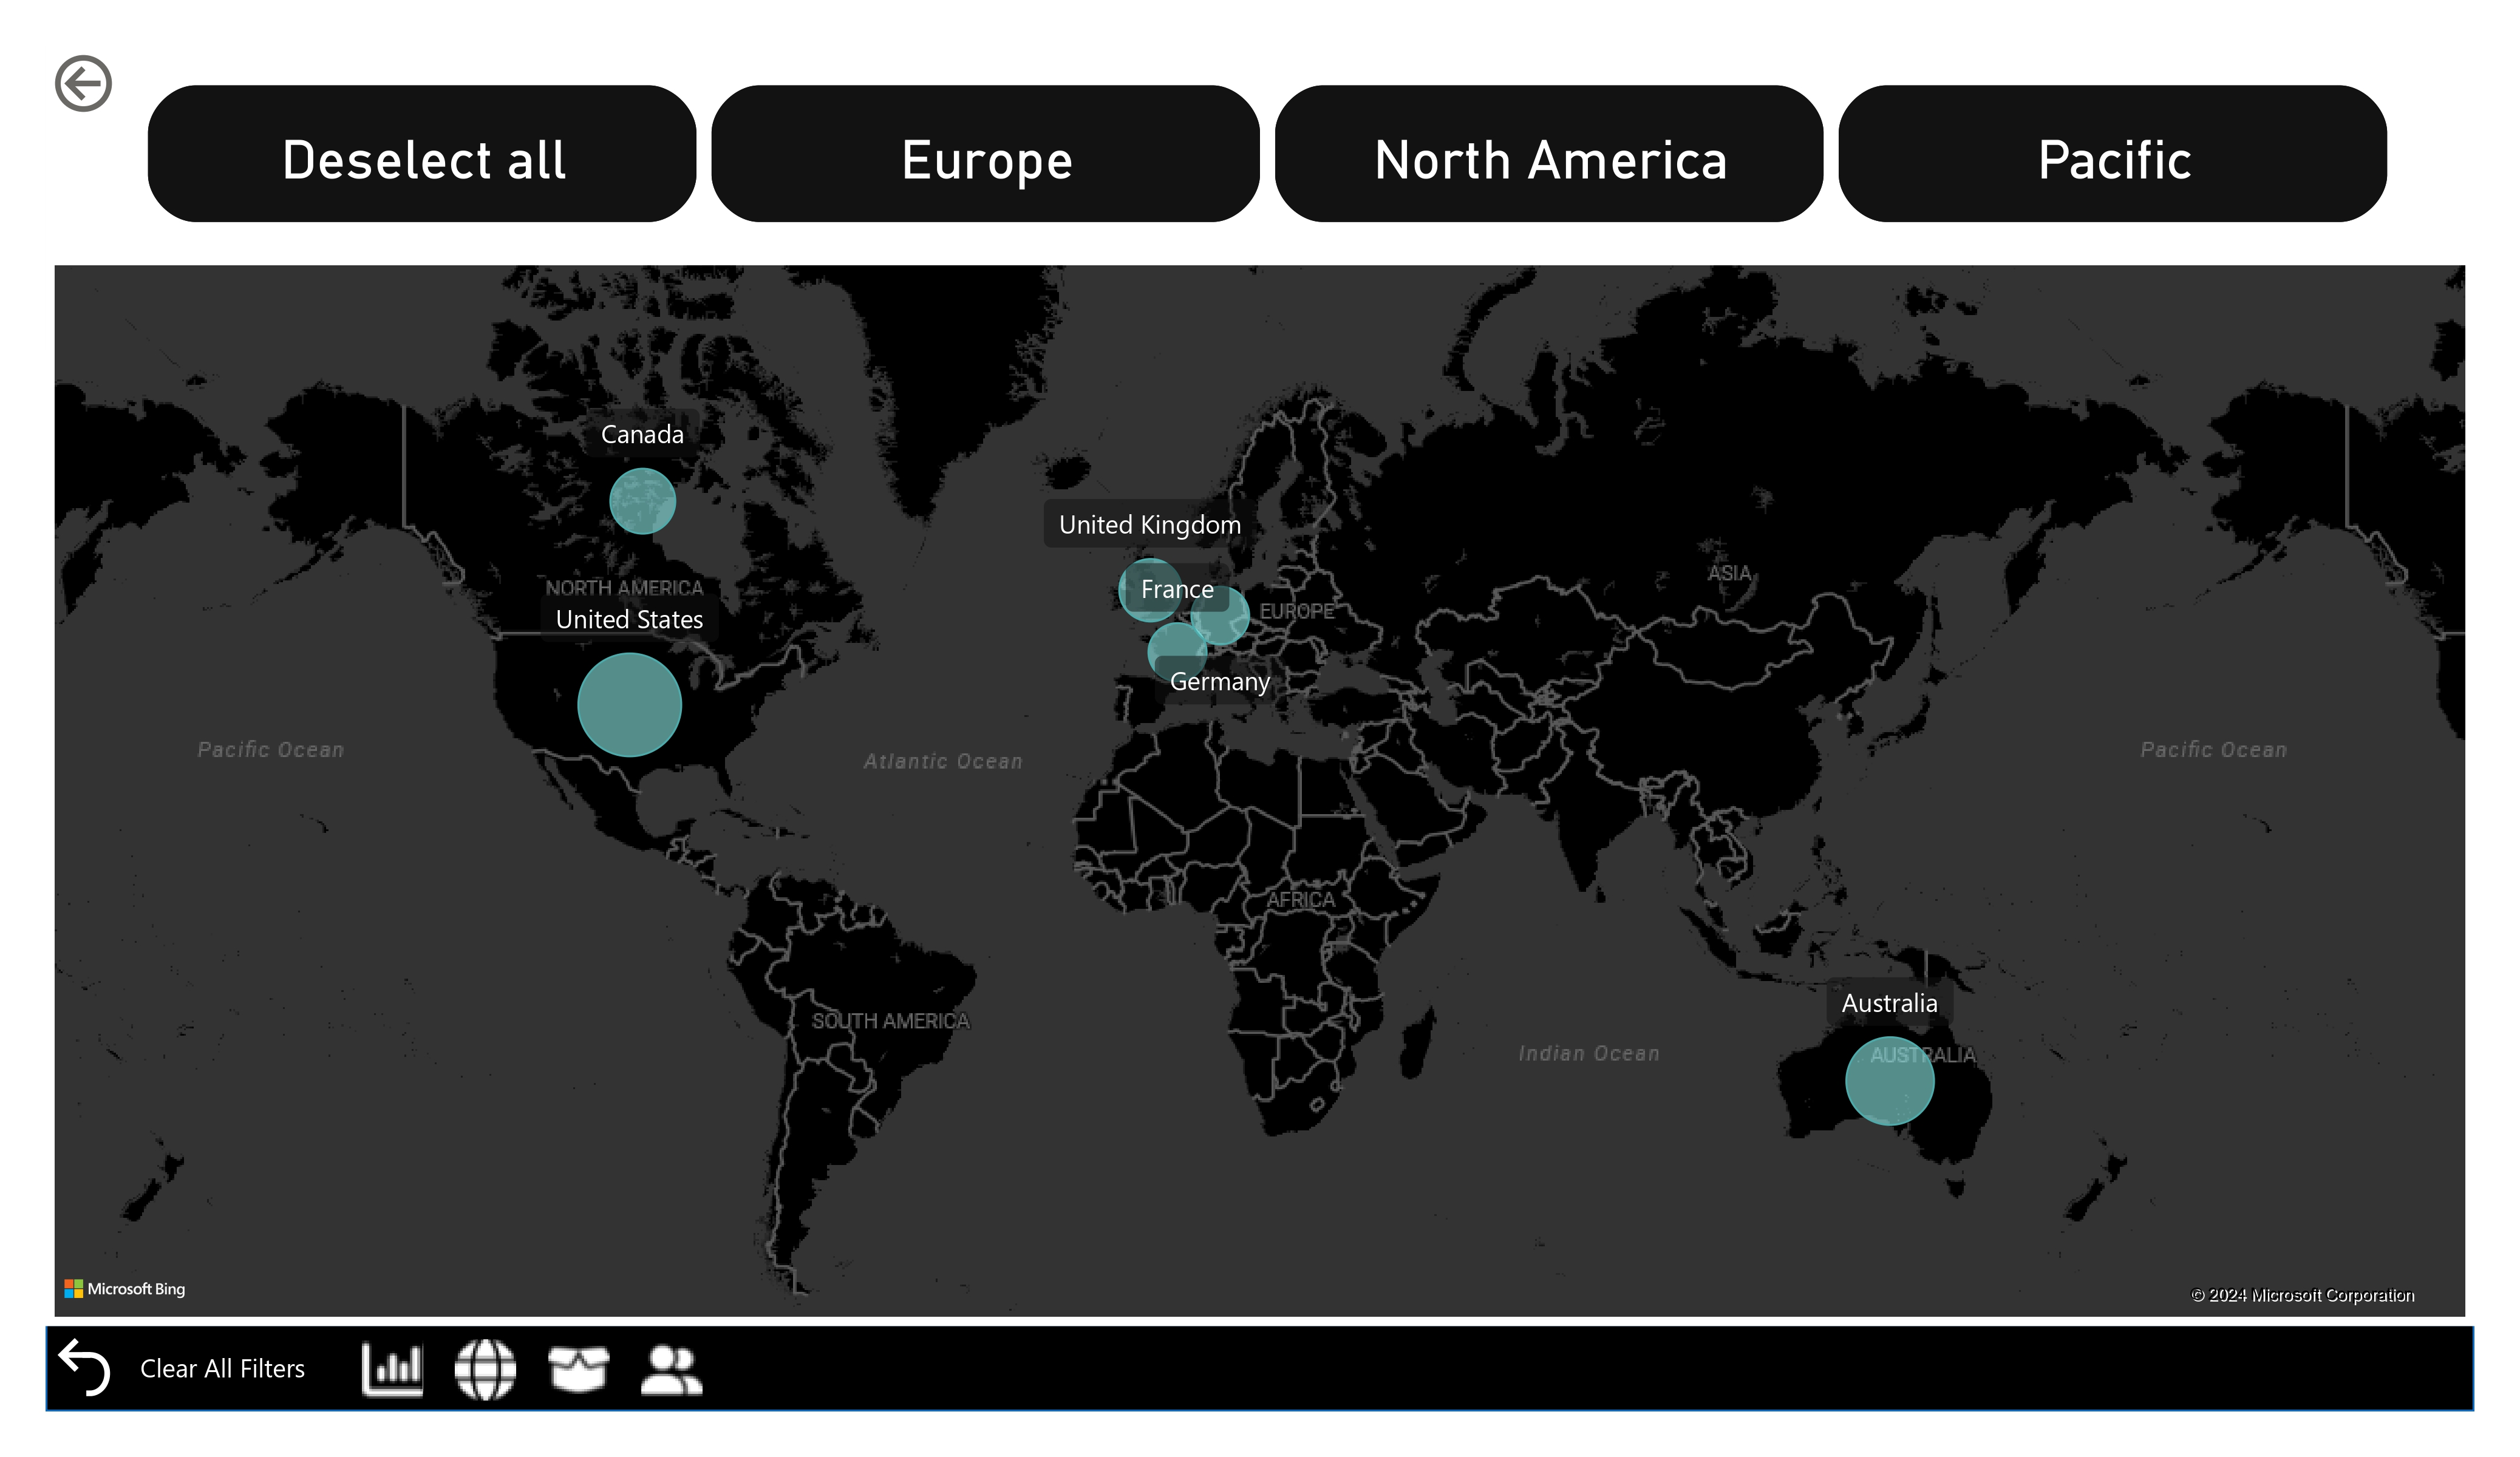

The page's visual inventory and layout, read from the dashboard file:
{"tool":"powerbi","page":{"name":"Map","canvas":[1280,720],"ordinal":1},"visuals":[{"type":"shape","box":[0,674.3,1280,45.7],"z":0},{"type":"actionButton","box":[0,0,100,40],"z":1000},{"type":"map","fields":{"Category":["Territory Lookup.Country"],"Size":["Measure Table.Total Orders"]},"box":[0,111.1,1280.3,564],"z":2000},{"type":"advancedSlicerVisual","fields":{"Values":["Territory Lookup.Continent"]},"box":[49.4,16.5,1193.8,82.3],"z":3000},{"type":"actionButton","box":[0,676.2,140.5,40.3],"z":4000},{"type":"actionButton","box":[162.8,677.6,40.3,40.3],"z":5000},{"type":"actionButton","box":[211.9,677.6,40.3,40.3],"z":6000},{"type":"actionButton","box":[261.1,677.6,40.3,40.3],"z":7000},{"type":"actionButton","box":[310.3,677.6,40.3,40.3],"z":8000}]}

Visuals, with their boxes in screenshot pixels (x1, y1, x2, y2):
shape: locate(46, 1325, 2474, 1411)
actionButton: locate(46, 46, 236, 121)
map - Territory Lookup.Country x Measure Table.Total Orders: locate(46, 256, 2474, 1326)
advancedSlicerVisual - Territory Lookup.Continent: locate(139, 77, 2405, 233)
actionButton: locate(46, 1328, 312, 1405)
actionButton: locate(355, 1331, 431, 1407)
actionButton: locate(448, 1331, 524, 1407)
actionButton: locate(541, 1331, 618, 1407)
actionButton: locate(635, 1331, 711, 1407)
